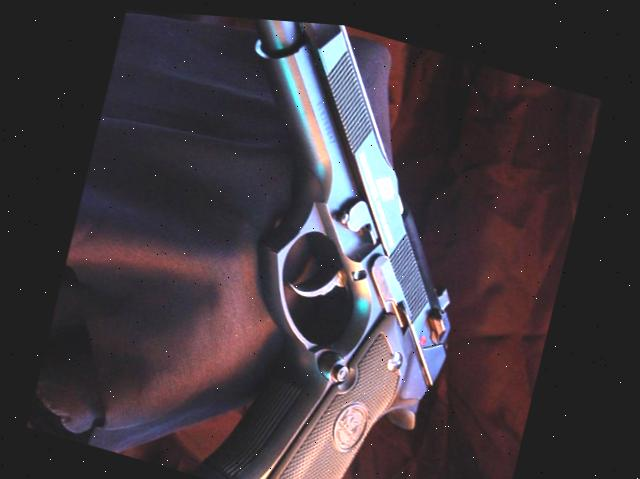pistol: (145, 9, 516, 479)
